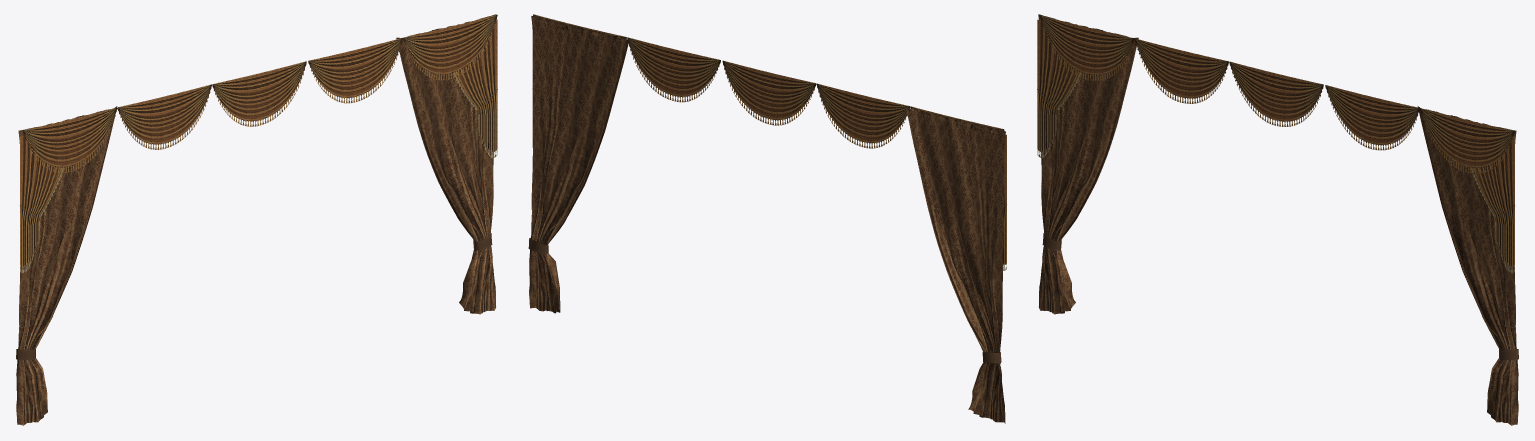
The model's file is Curtain04A.FBX.
3 renders of one model, left to right at view 1: azimuth 30°, elevation 25°; view 2: azimuth 150°, elevation 25°; view 3: azimuth 330°, elevation 25°, orthographic.
Parts seen in each view (by area): view 1: Curtain04A; view 2: Curtain04A; view 3: Curtain04A.
Part boxes in pixels (left/top/right/bottom): Curtain04A: left=16, top=14, right=497, bottom=425; Curtain04A: left=528, top=14, right=1006, bottom=423; Curtain04A: left=1037, top=14, right=1518, bottom=425.
Size of the model in its own units: 714 by 21.84 by 420.
